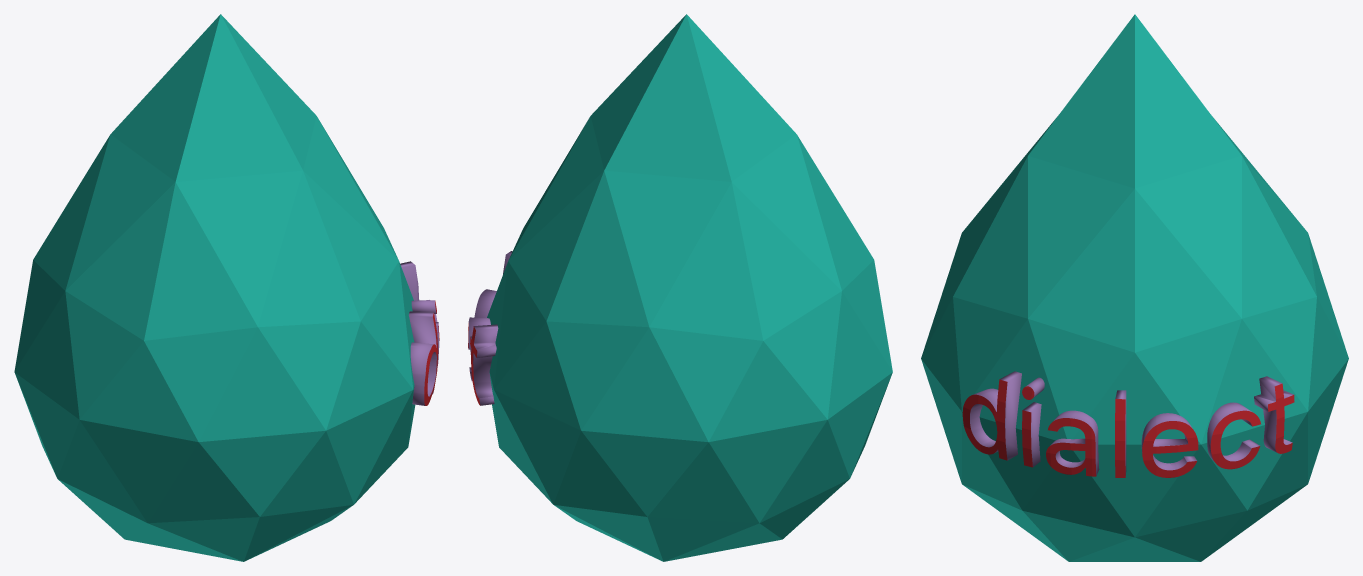
The model's file is droplet-model.glb.
3 renders of one model, left to right at view 1: azimuth 30°, elevation 25°; view 2: azimuth 150°, elevation 25°; view 3: azimuth 270°, elevation 25°, orthographic.
Visible parts, largest first — view 1: drop, Text-modifierapplied; view 2: drop, Text-modifierapplied; view 3: drop, Text-modifierapplied.
Boxes of the visible parts, box(x1,y1,x2,y2) form: drop: box(14, 14, 415, 561); Text-modifierapplied: box(400, 261, 439, 405); drop: box(487, 14, 892, 561); Text-modifierapplied: box(468, 251, 512, 405); drop: box(921, 14, 1348, 561); Text-modifierapplied: box(962, 371, 1294, 477).
Bounding box in the file's own units: 1.99 × 2.78 × 2.
